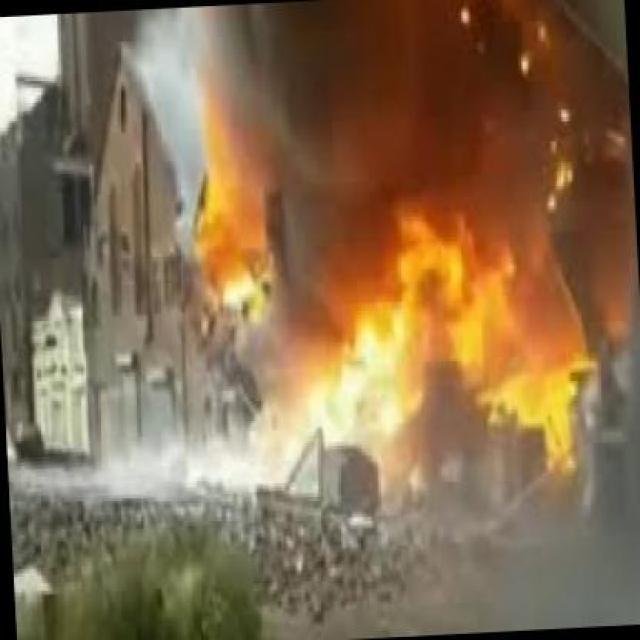Fire: (317, 224, 608, 464), (192, 118, 268, 314)
Smoke: (263, 20, 634, 212), (382, 514, 640, 626), (59, 431, 322, 499), (130, 32, 250, 112)
